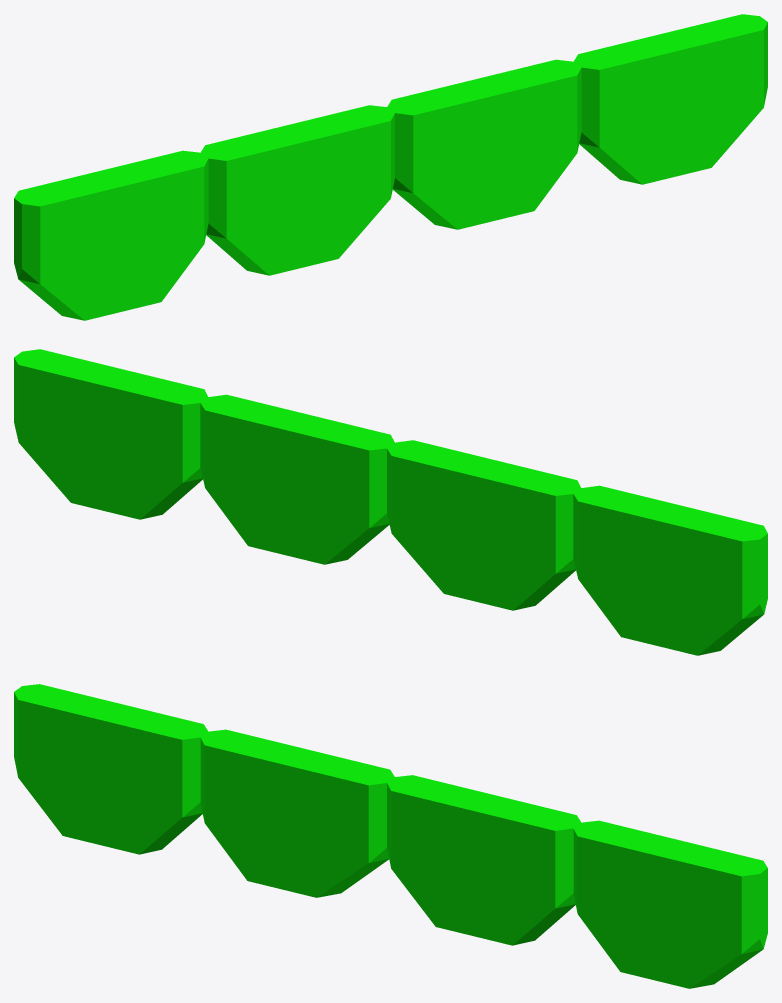
Rendered from SM_Wall_Deco_Wood_Rim_D.fbx.
3 renders of one model, top to bottom at view 1: azimuth 30°, elevation 25°; view 2: azimuth 150°, elevation 25°; view 3: azimuth 330°, elevation 25°, orthographic.
Parts seen in each view (by area): view 1: wall-deco-wood-rim-d; view 2: wall-deco-wood-rim-d; view 3: wall-deco-wood-rim-d.
Part boxes in pixels (left/top/right/bottom): wall-deco-wood-rim-d: left=14, top=14, right=767, bottom=320; wall-deco-wood-rim-d: left=14, top=349, right=767, bottom=655; wall-deco-wood-rim-d: left=14, top=684, right=767, bottom=988.
Bounding box in the file's own units: 1 × 0.1604 × 0.05.
